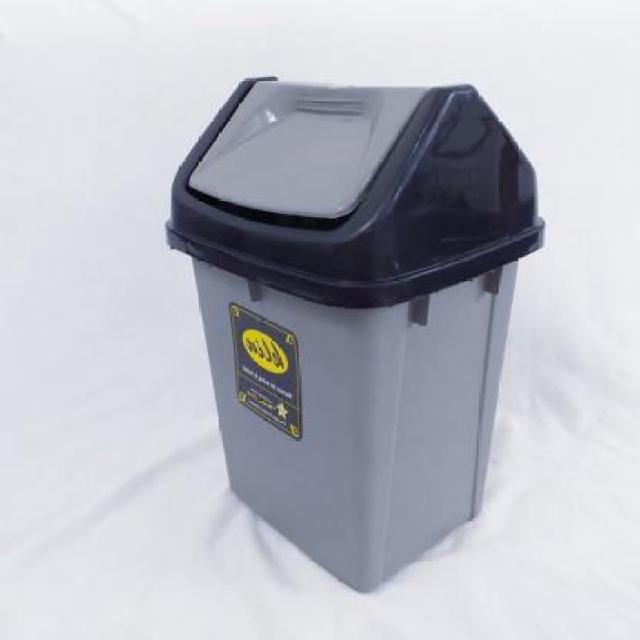garbage container: (149, 64, 554, 613)
